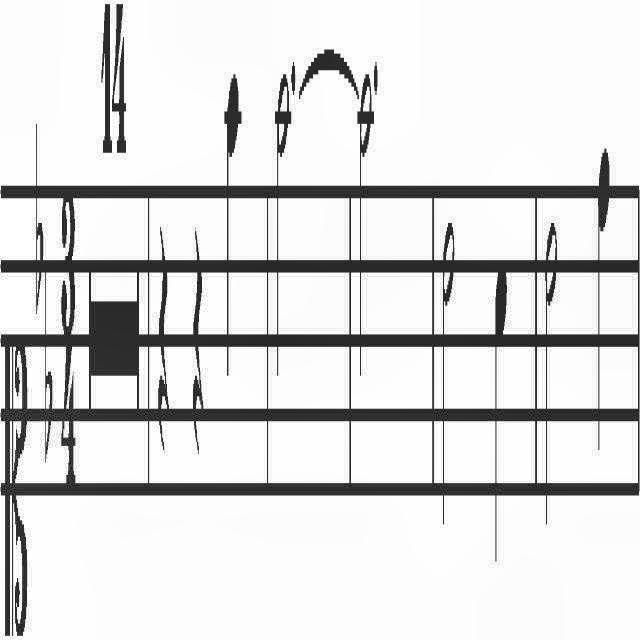Bemol: (34, 105, 44, 322), (44, 260, 52, 470)
Half-note: (272, 59, 292, 389), (440, 208, 456, 540), (358, 69, 374, 387), (544, 210, 558, 534)
Quarter-note: (223, 59, 243, 384), (596, 134, 612, 466), (494, 246, 508, 578)
Quarter-rest: (158, 218, 170, 462), (193, 214, 203, 452)
